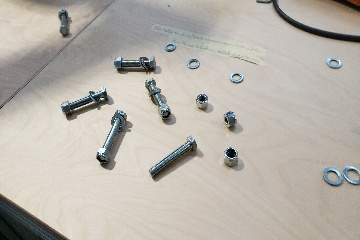Bolt: (146, 133, 203, 183)
FalseAssembly: (94, 107, 131, 166), (57, 84, 113, 120), (55, 8, 71, 44)
FinishedAssembly: (141, 77, 175, 121), (109, 55, 160, 72)
Nut: (222, 146, 239, 168), (220, 108, 238, 128), (195, 93, 211, 111)
Washer: (322, 166, 343, 187), (228, 70, 245, 84), (325, 58, 344, 69), (185, 58, 201, 70), (162, 43, 178, 51)
